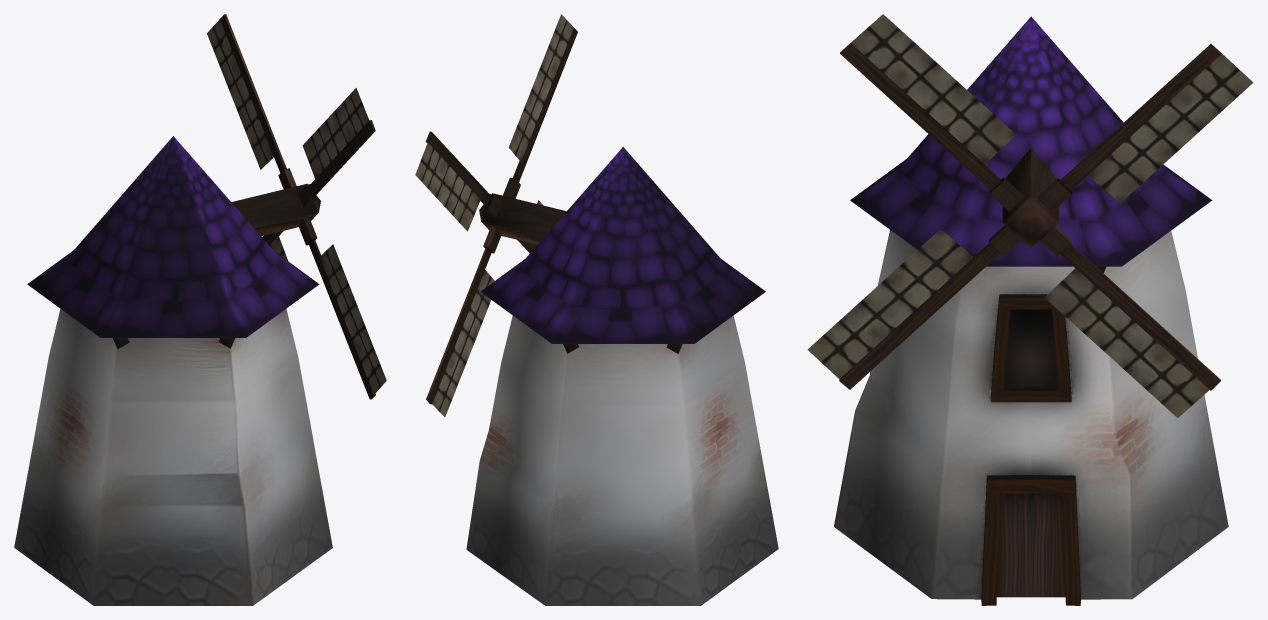
File: windmill-classic.fbx
3 views of the same model, side by side, from view 1: azimuth 30°, elevation 25°; view 2: azimuth 150°, elevation 25°; view 3: azimuth 270°, elevation 25° (orthographic). The views are drawn at different scales.
Parts seen in each view (by area): view 1: HOUSE, blades, blades_wood, TRUNK_WILD_MEAL; view 2: HOUSE, blades, blades_wood, TRUNK_WILD_MEAL; view 3: HOUSE, blades, blades_wood, TRUNK_WILD_MEAL.
Part boxes in pixels (x1=…): HOUSE: x1=14, y1=136, x2=332, y2=605; blades: x1=207, y1=19, x2=386, y2=394; blades_wood: x1=220, y1=14, x2=375, y2=399; TRUNK_WILD_MEAL: x1=231, y1=183, x2=320, y2=236; HOUSE: x1=466, y1=147, x2=778, y2=605; blades: x1=415, y1=14, x2=573, y2=416; blades_wood: x1=425, y1=28, x2=577, y2=404; TRUNK_WILD_MEAL: x1=479, y1=193, x2=566, y2=244; HOUSE: x1=834, y1=16, x2=1228, y2=605; blades: x1=807, y1=14, x2=1253, y2=417; blades_wood: x1=839, y1=43, x2=1221, y2=390; TRUNK_WILD_MEAL: x1=1002, y1=148, x2=1059, y2=247.
Bounding box in the file's own units: 494 × 838 × 577.
Materials: 1 (1 with a texture image).
